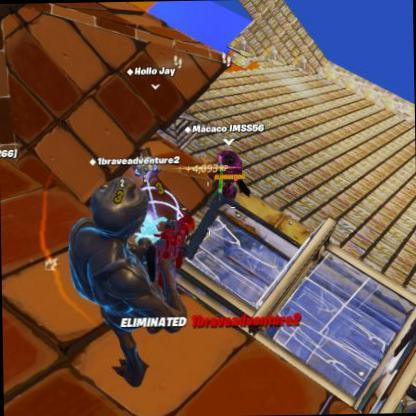person: (207, 143, 244, 208)
